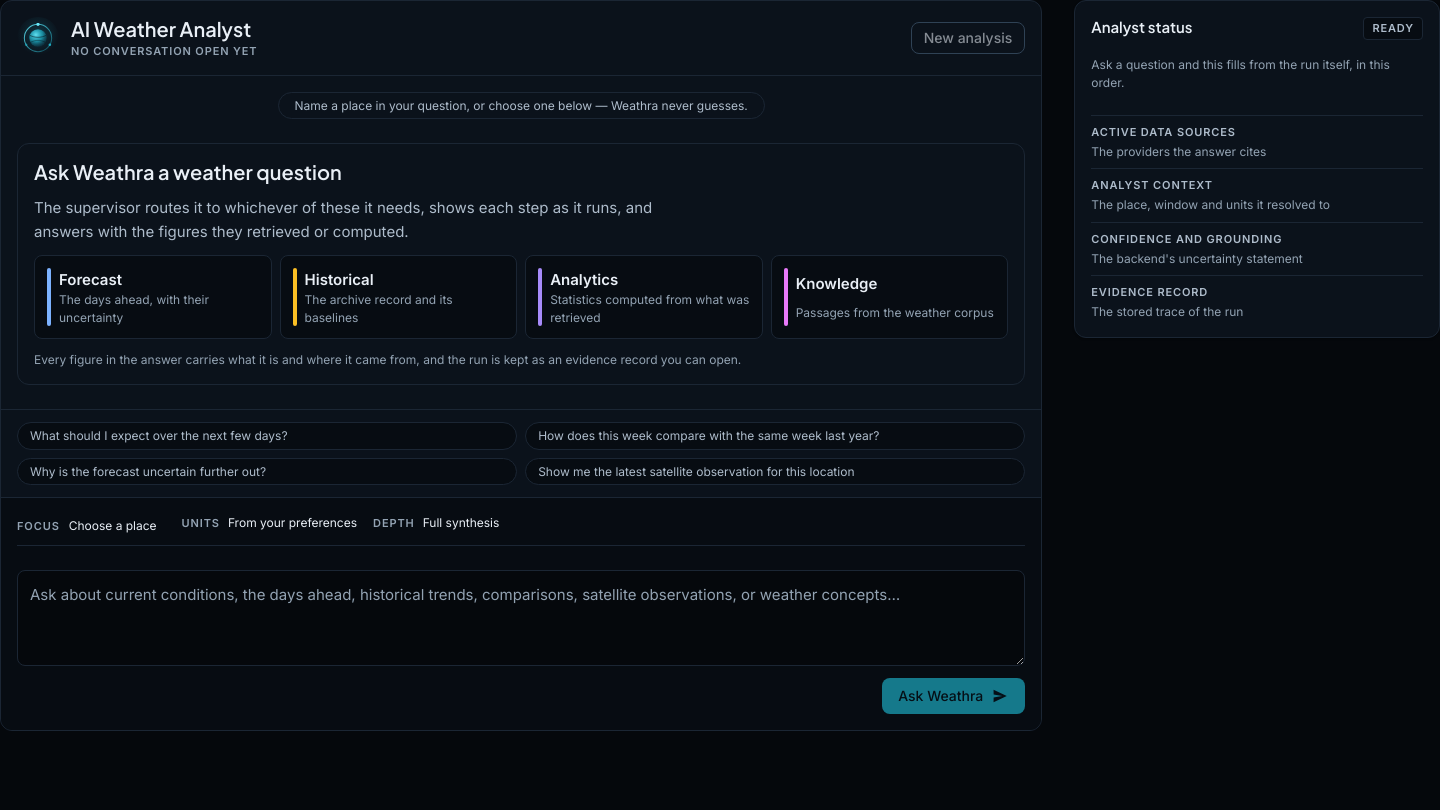
when a run does not complete › shows the backend's own message for a reported failure, and no weather figure
The width and height of the screenshot is (1440, 810).
Replace the text in the text box named "Your weather question" with "What should I expect?" at {"x": 521, "y": 618}, box [17,570,1025,666]
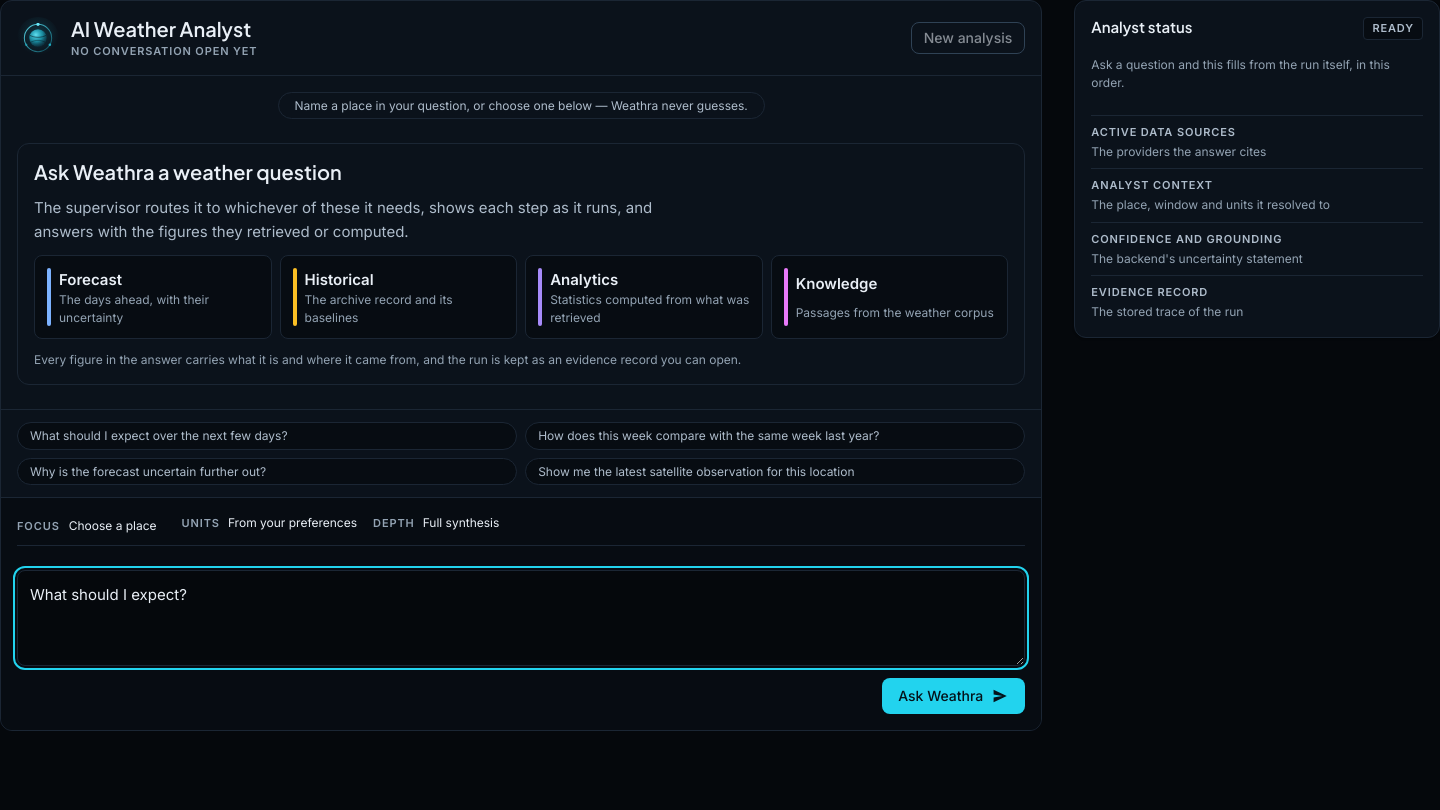
Click the button "Ask Weathra" at {"x": 954, "y": 696}, box [882,678,1025,714]
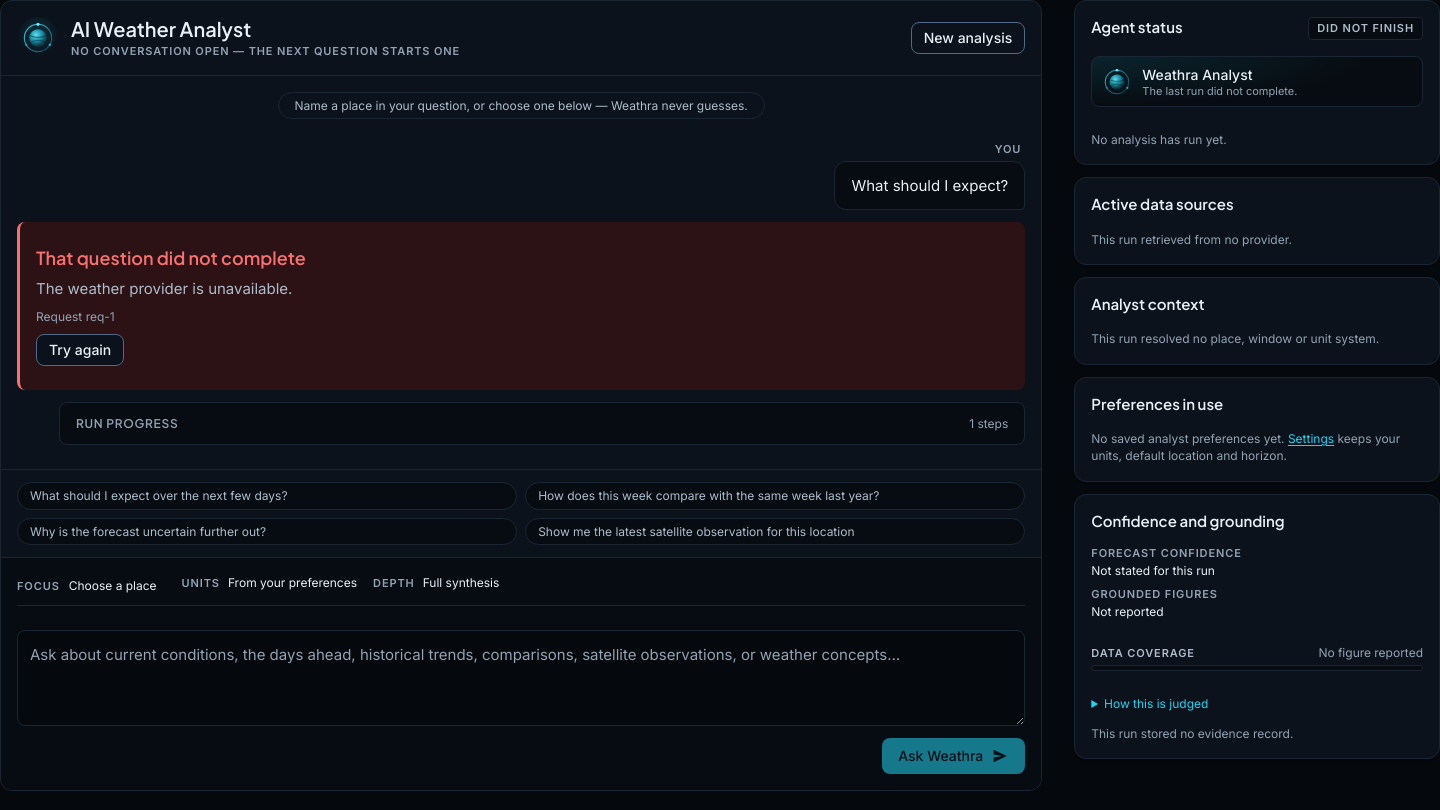
Check: the text "The weather provider is unavailable." is shown, box [36,277,292,300]
Check: the text "Request req-1" is shown, box [36,308,115,326]
